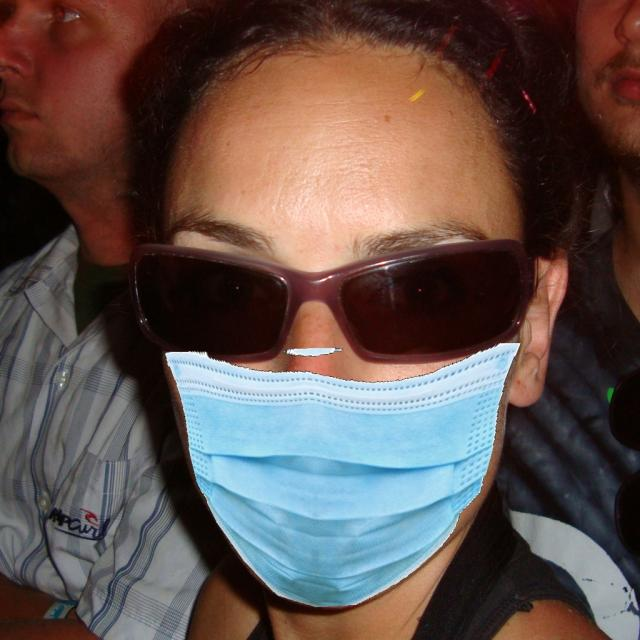2_gafas: (126, 242, 543, 362)
